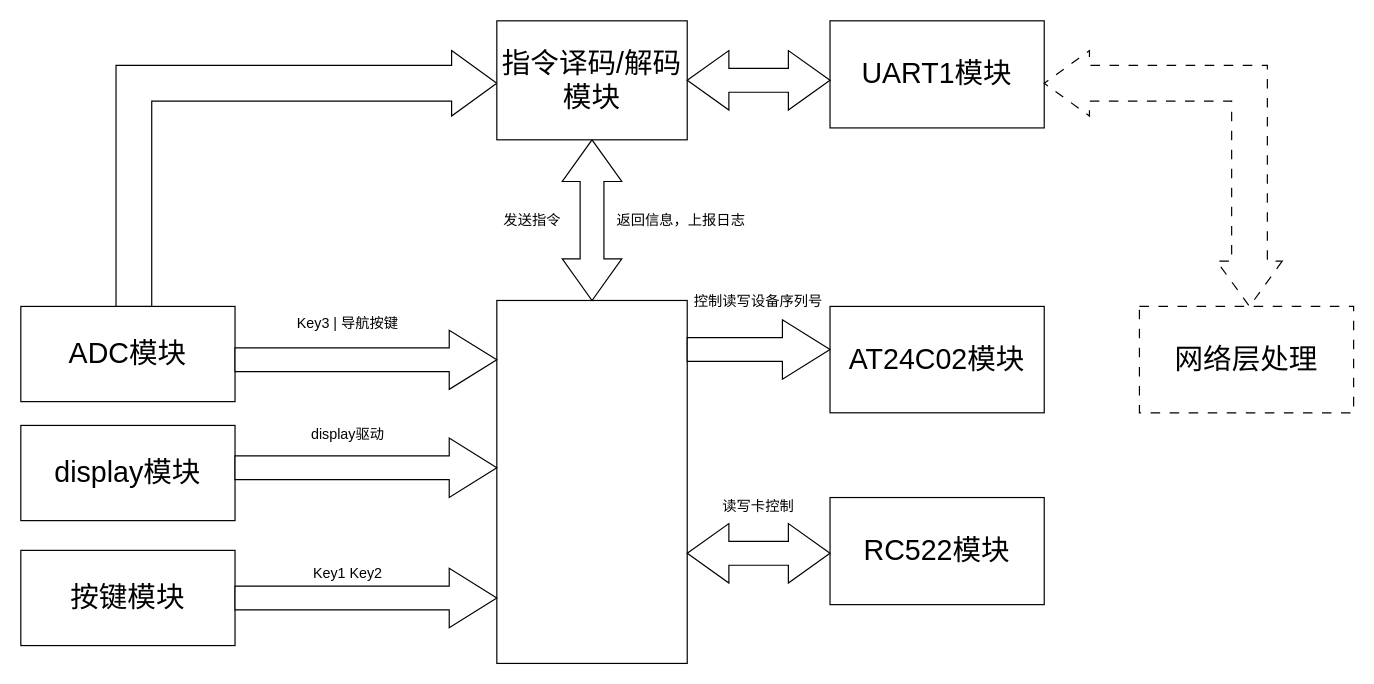
Image size: 1374x684. Some labels were removed from this diagram. The shapes that lost their labels are listed below. From the top down, each one's centre as x and y in pixels, then its label:
At [306,177]: "提供传感器数据".
At [591,481]: "sys模块".
